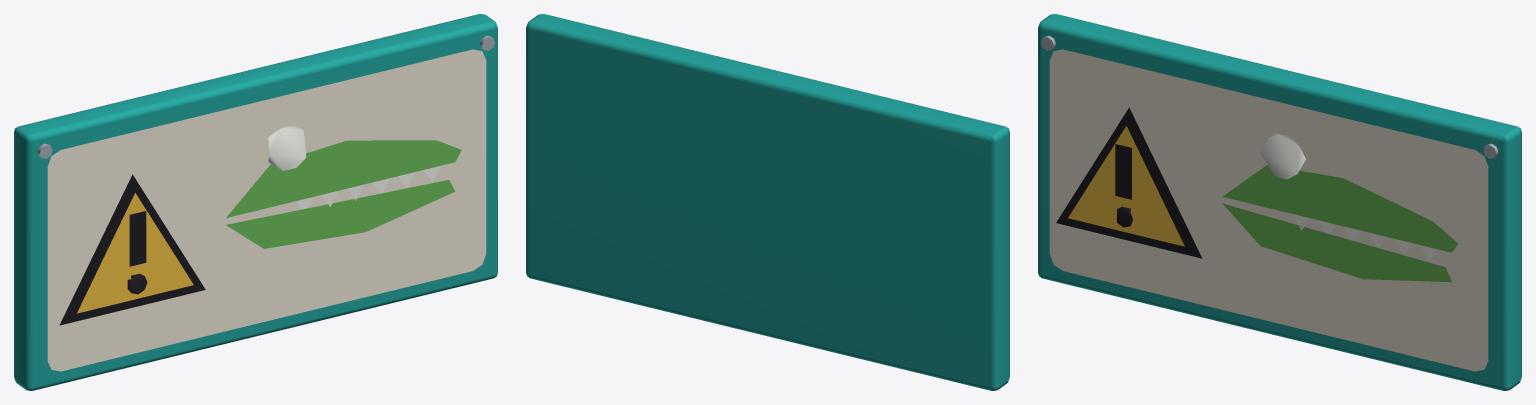
Rendered from CartelAnimales.fbx.
3 renders of one model, left to right at view 1: azimuth 30°, elevation 25°; view 2: azimuth 150°, elevation 25°; view 3: azimuth 330°, elevation 25°, orthographic.
Parts seen in each view (by area): view 1: CartelAnimales; view 2: CartelAnimales; view 3: CartelAnimales.
Boxes of the visible parts, x1,y1,x2,y2 form: CartelAnimales: (14, 14, 497, 390); CartelAnimales: (526, 14, 1009, 390); CartelAnimales: (1038, 14, 1521, 390).
Bounding box in the file's own units: 5 × 2.6 × 0.5008.
Materials: 1 (1 with a texture image).
